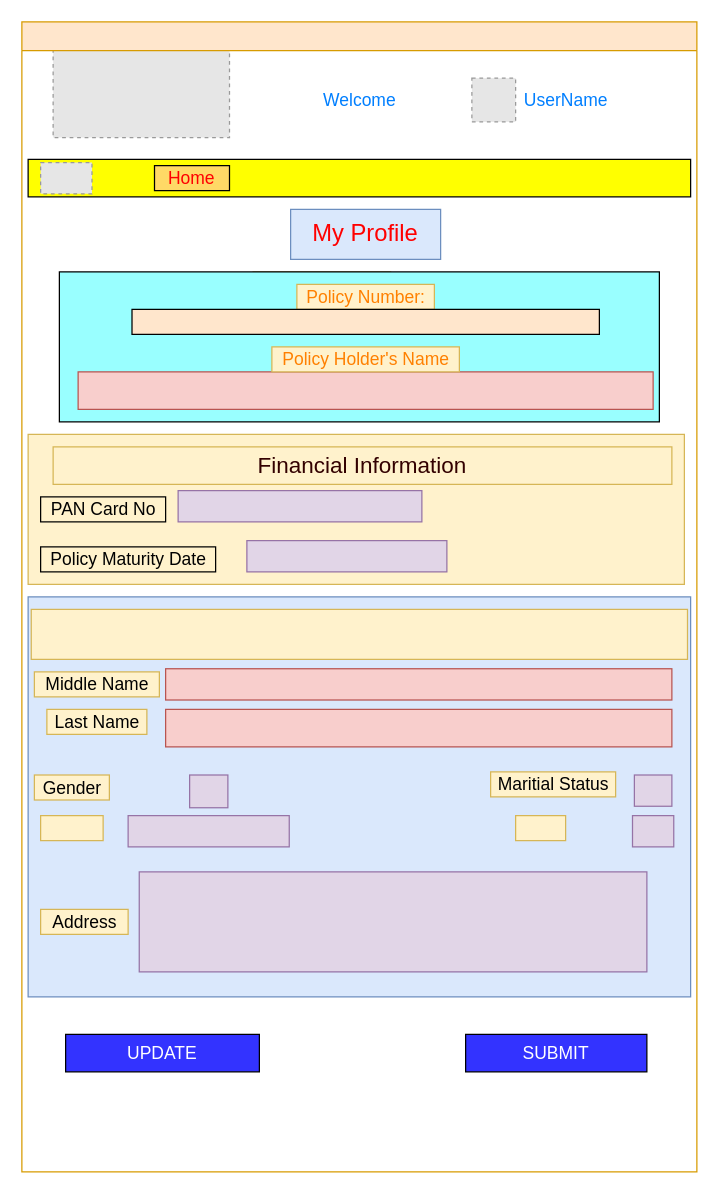
This 719x1194 diagram has some shape labels left out. Grey dashed boxes stand in for pictures. The shapes that lost their labels are listed below. From the top down, each one's centre as x and y in pixels, then its label:
At (x=359, y=633): "Personal Information".
At (x=71, y=827): "DOB".
At (x=540, y=827): "Age".
